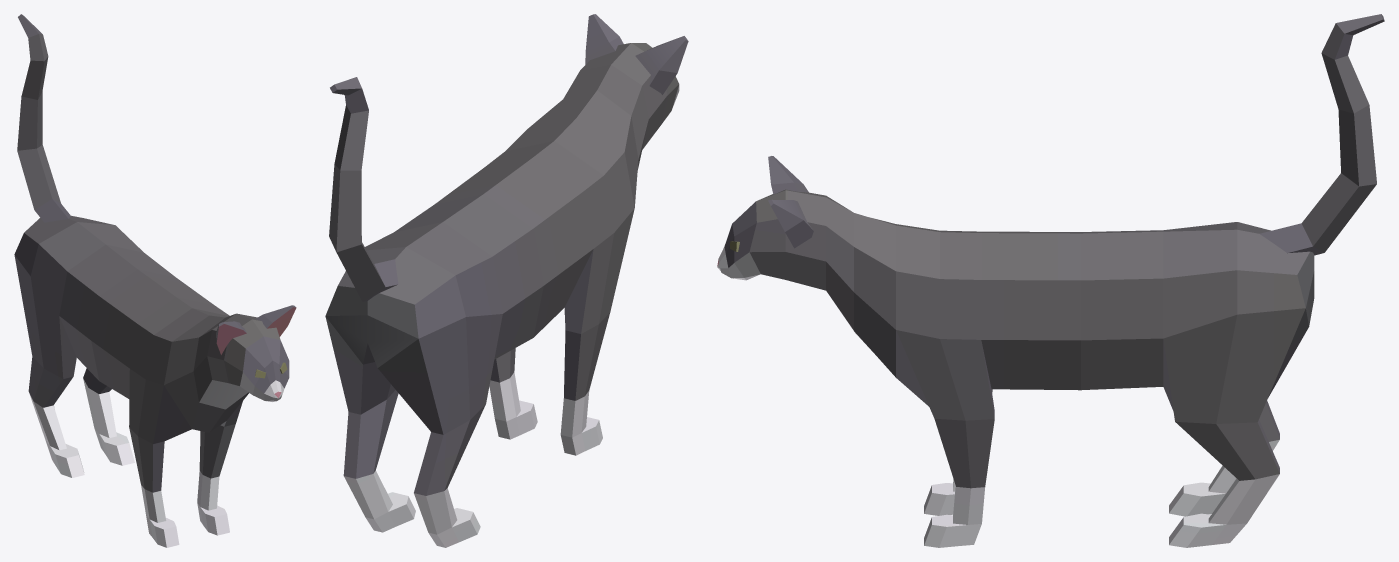
The model's file is prop_pz_cat.glb.
3 views of the same model, side by side, from view 1: azimuth 30°, elevation 25°; view 2: azimuth 150°, elevation 25°; view 3: azimuth 270°, elevation 25° (orthographic). The views are drawn at different scales.
Visible parts, largest first — view 1: Geo_Cat; view 2: Geo_Cat; view 3: Geo_Cat.
Boxes of the visible parts, <box> form: Geo_Cat: <box>14,14,296,547</box>; Geo_Cat: <box>325,14,688,547</box>; Geo_Cat: <box>717,14,1384,547</box>.
Size of the model in its own units: 17.49 by 71.29 by 84.26.
1 material, 1 textured.
